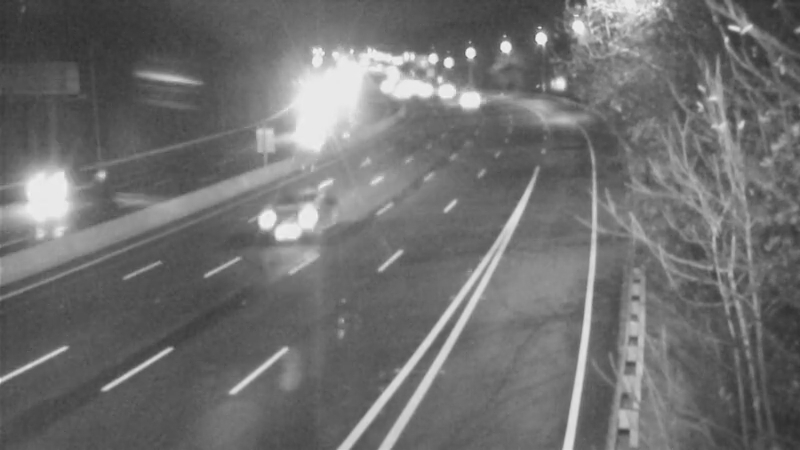vehicle: (254, 177, 334, 257), (10, 161, 90, 241), (441, 78, 491, 128)
